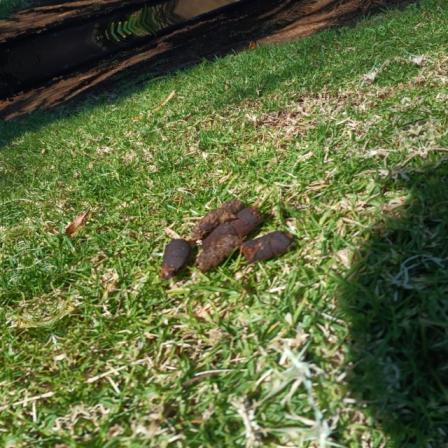dog-poop: (166, 201, 287, 271)
